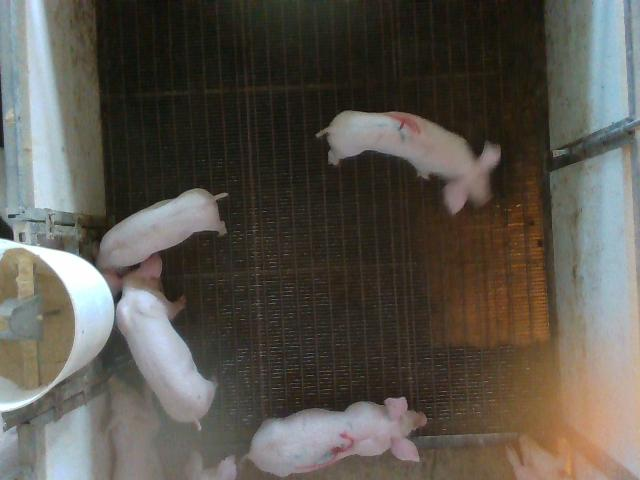pig-3: (249, 399, 426, 476)
pig-4: (316, 111, 500, 214)
